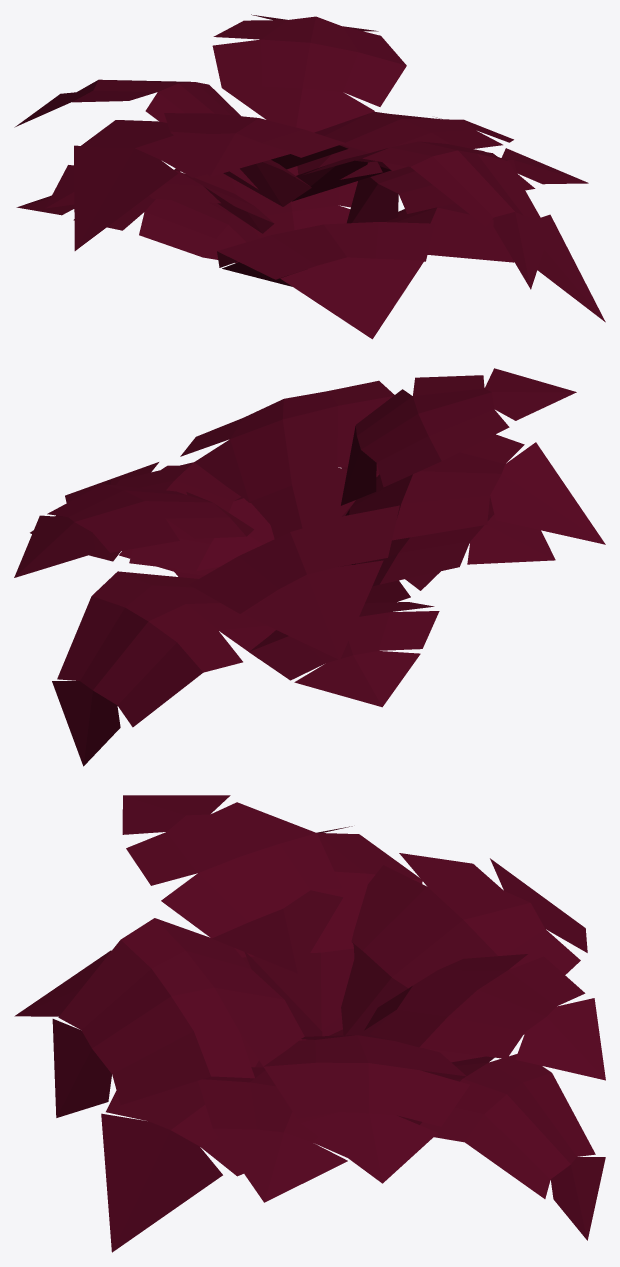
Rendered from tree4_2_s3.fbx.
3 views of the same model, one above another, from view 1: azimuth 30°, elevation 25°; view 2: azimuth 150°, elevation 25°; view 3: azimuth 270°, elevation 25° (orthographic). The views are drawn at different scales.
Parts seen in each view (by area): view 1: Plane.048; view 2: Plane.048; view 3: Plane.048.
Boxes of the visible parts, box(x1,y1,x2,y2) form: Plane.048: box(14, 14, 605, 339); Plane.048: box(14, 368, 605, 766); Plane.048: box(14, 795, 605, 1252).
Size of the model in its own units: 780 by 410 by 709.
